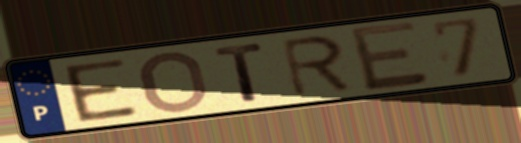7: (430, 15, 484, 80)
E: (346, 18, 434, 95), (59, 56, 142, 124)
O: (137, 49, 212, 115)
R: (277, 33, 356, 100)
T: (212, 40, 269, 104)
